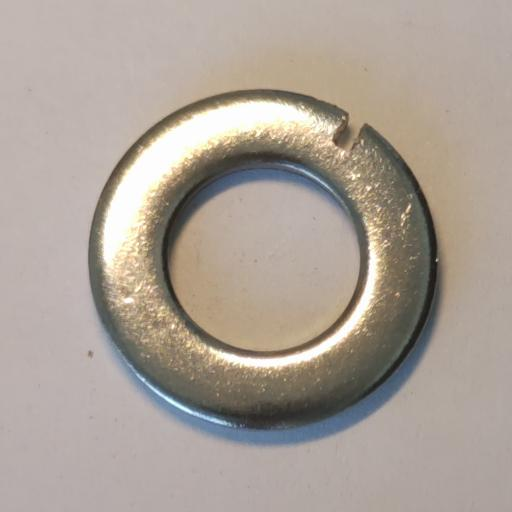burr: (332, 112, 366, 152)
